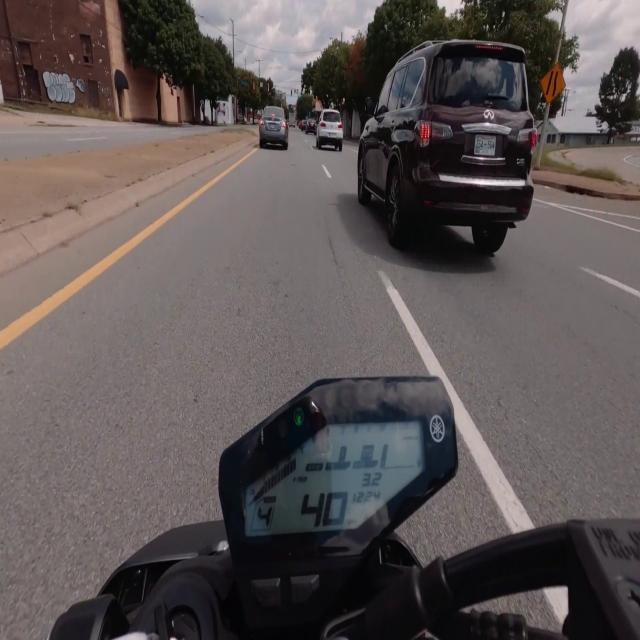car: (358, 41, 536, 254), (259, 107, 288, 149), (316, 109, 343, 151), (305, 118, 316, 133)
motorcycle: (50, 378, 639, 639)
